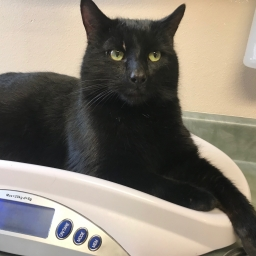cat: (60, 1, 227, 197)
